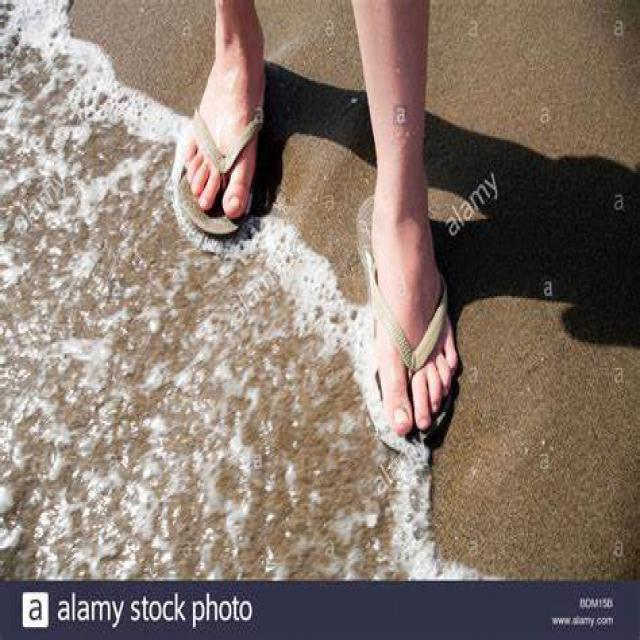No_Shoe: (354, 193, 465, 453), (178, 31, 272, 238)
